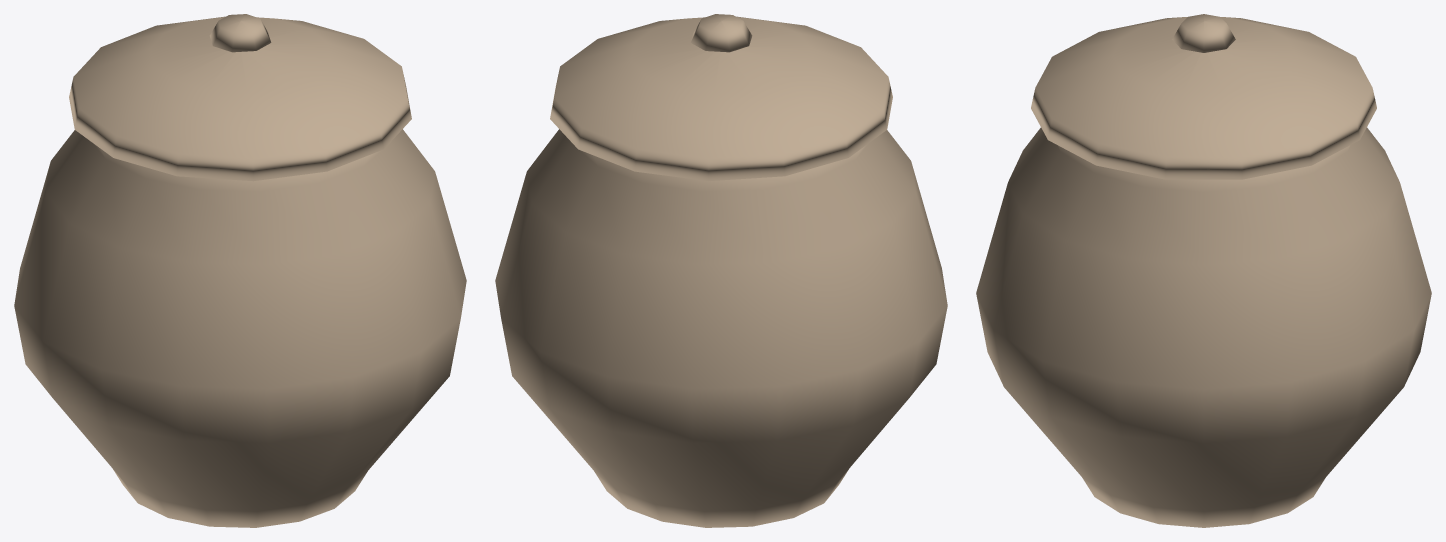
The model's file is onggi-jar-small.glb.
3 views of the same model, side by side, from view 1: azimuth 30°, elevation 25°; view 2: azimuth 150°, elevation 25°; view 3: azimuth 270°, elevation 25° (orthographic).
Visible parts, largest first — view 1: onggi-jar-small, jar-lid; view 2: onggi-jar-small, jar-lid; view 3: onggi-jar-small, jar-lid.
Boxes of the visible parts, x1,y1,x2,y2 form: onggi-jar-small: (14,129,466,527); jar-lid: (69,14,411,181); onggi-jar-small: (495,129,947,527); jar-lid: (550,14,892,181); onggi-jar-small: (976,127,1431,527); jar-lid: (1031,14,1376,179).
Size of the model in its own units: 0.38 by 0.4198 by 0.38.
